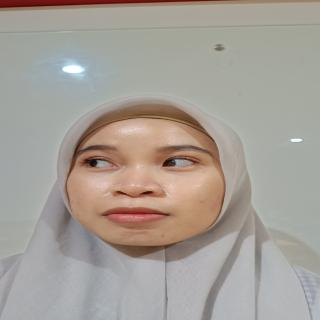Takut: (62, 115, 233, 251)
